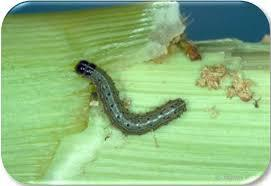fallarmy_worm: (71, 58, 189, 135)
